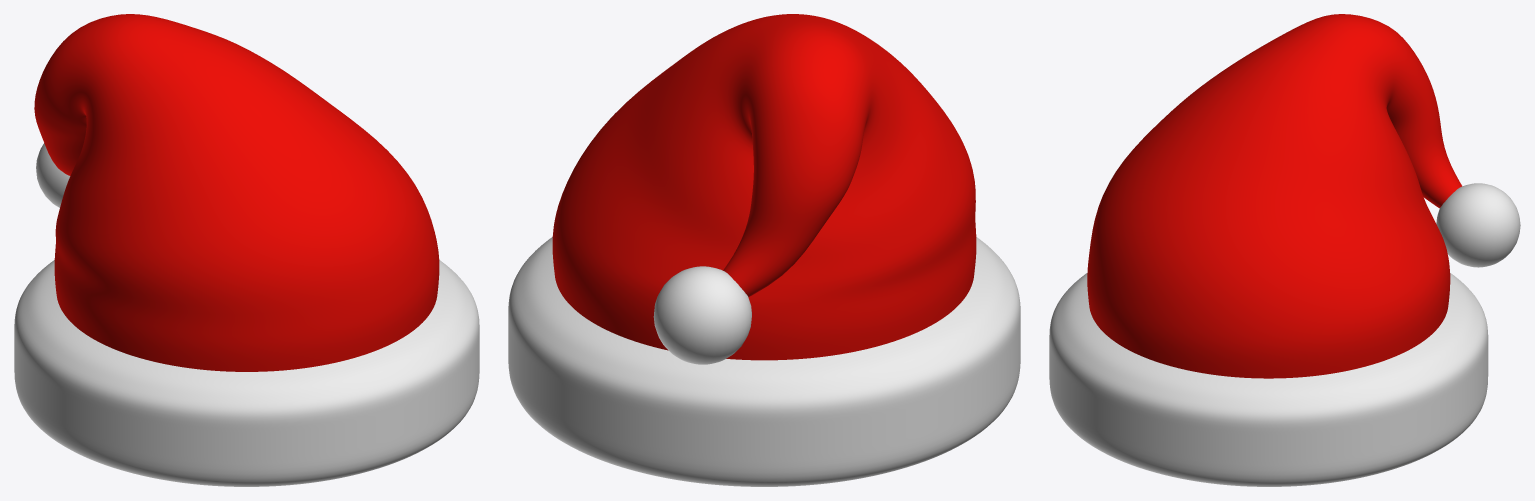
Rendered from santa_claus_hat.glb.
3 renders of one model, left to right at view 1: azimuth 30°, elevation 25°; view 2: azimuth 150°, elevation 25°; view 3: azimuth 270°, elevation 25°, orthographic. The views are drawn at different scales.
Parts seen in each view (by area): view 1: Circle, Circle.001, Sphere; view 2: Circle, Circle.001, Sphere; view 3: Circle, Circle.001, Sphere.
Part boxes in pixels (x1,y1,x2,y2): Circle: (34,14,439,371); Circle.001: (14,260,479,486); Sphere: (36,143,70,207); Circle: (552,14,976,360); Circle.001: (508,237,1020,486); Sphere: (653,266,751,364); Circle: (1087,14,1461,378); Circle.001: (1049,273,1488,486); Sphere: (1436,183,1520,267).
Bounding box in the file's own units: 397 × 348 × 427.
